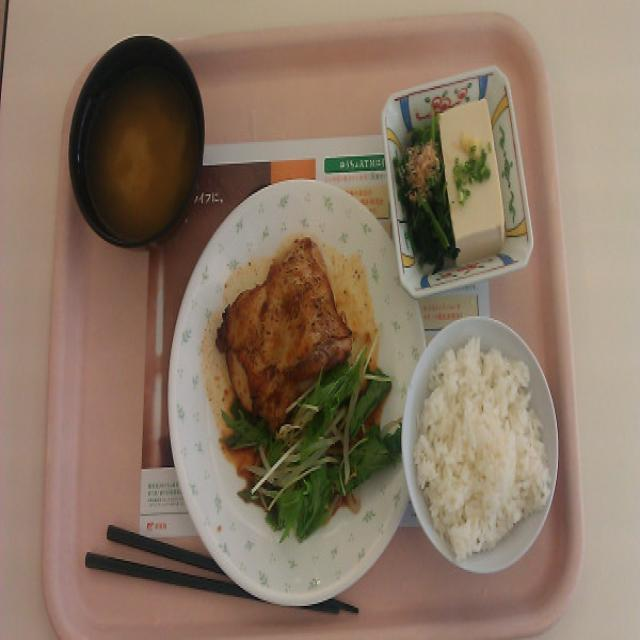Rice: (411, 334, 548, 544)
